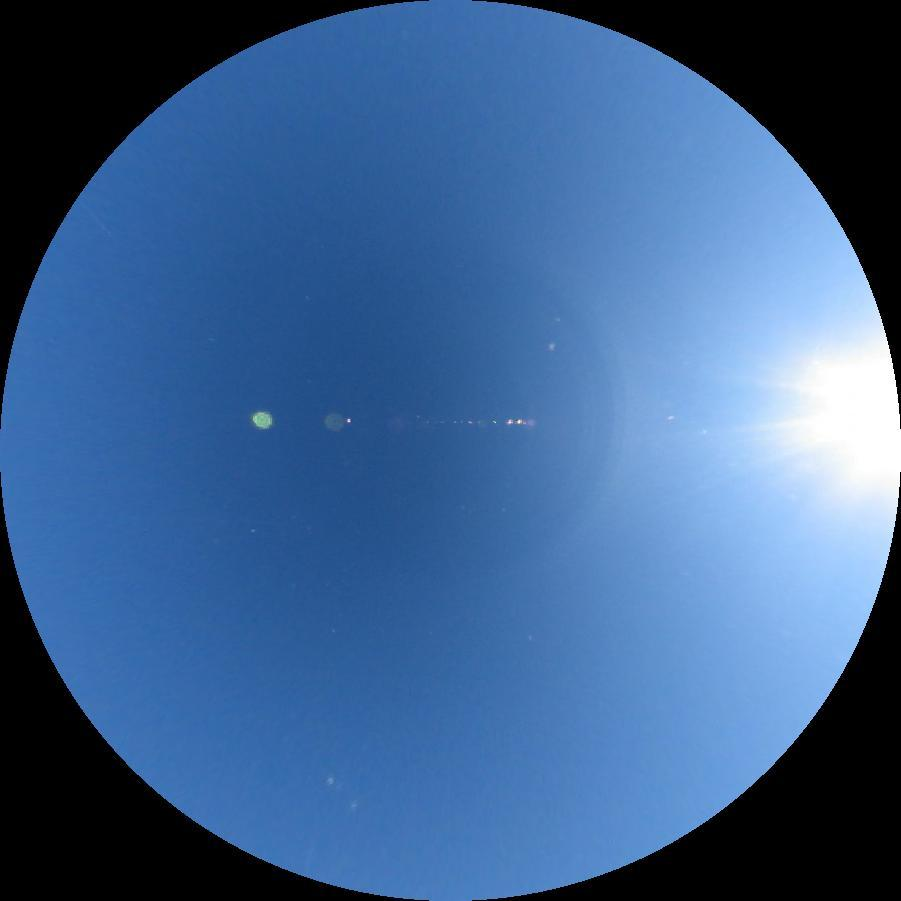contrail young: (77, 196, 116, 245)
